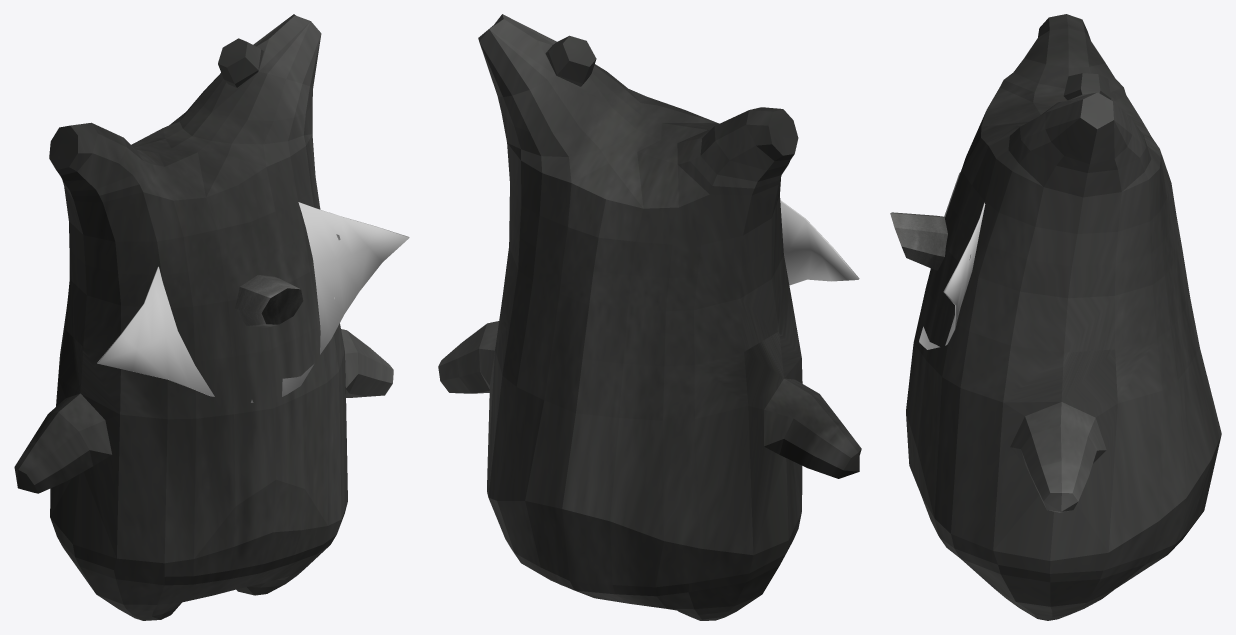
Rendered from frame_0073.obj.
3 renders of one model, left to right at view 1: azimuth 30°, elevation 25°; view 2: azimuth 150°, elevation 25°; view 3: azimuth 270°, elevation 25°, orthographic. The views are drawn at different scales.
Parts seen in each view (by area): view 1: korok, leaf, nose; view 2: korok, leaf; view 3: korok, nose, leaf.
Part boxes in pixels (<box>): korok: <box>14,14,393,620</box>; leaf: <box>97,202,409,402</box>; nose: <box>234,275,303,327</box>; korok: <box>438,14,861,620</box>; leaf: <box>780,200,859,285</box>; korok: <box>906,14,1221,620</box>; nose: <box>890,212,947,270</box>; leaf: <box>919,172,985,349</box>.
Bounding box in the file's own units: 1.68 × 2.26 × 1.22.
